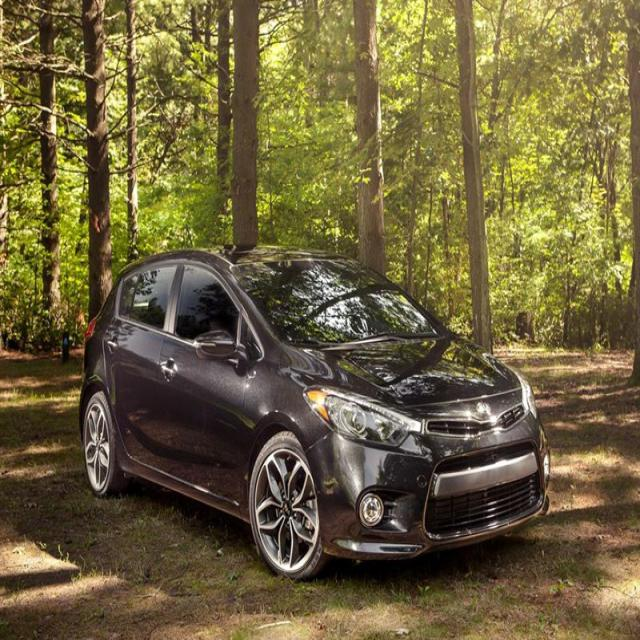back_right_side_light: (84, 314, 100, 345)
door: (114, 262, 179, 465)
front_bumper: (295, 424, 553, 556)
front_glass: (230, 261, 440, 342)
front_left_side_light: (515, 371, 538, 419)
front_right_side_door: (156, 259, 247, 518)
front_right_side_light: (303, 382, 423, 452)
front_right_side_mirror: (194, 328, 248, 379)
wheel: (251, 432, 328, 582), (81, 389, 118, 498)
